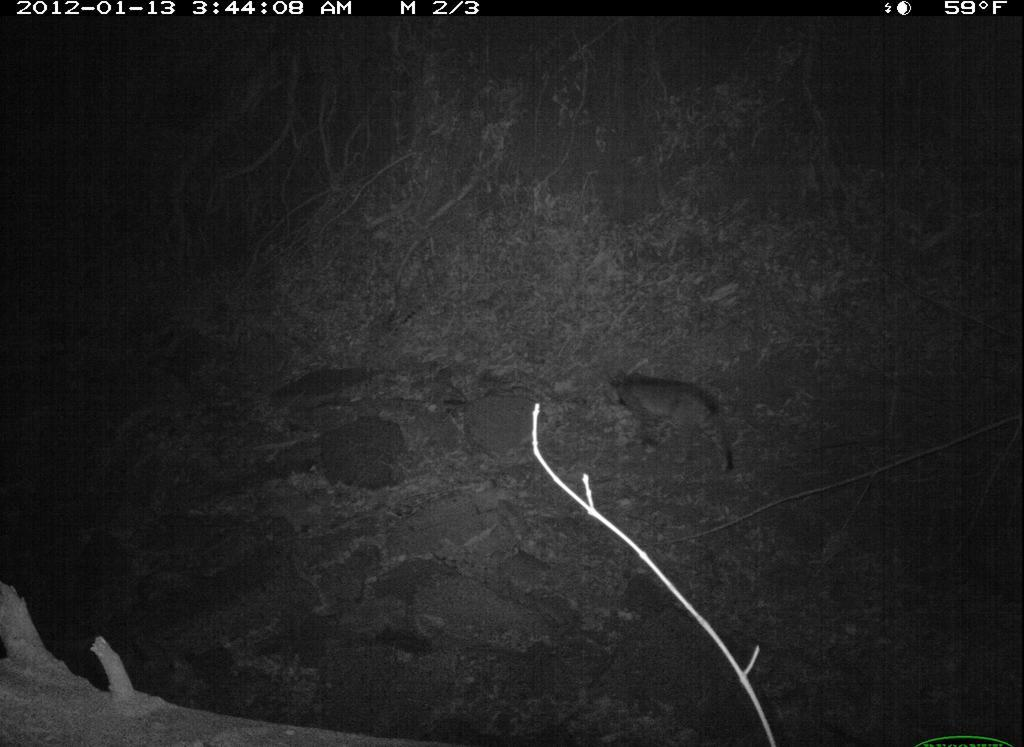bobcat: (598, 369, 741, 476)
